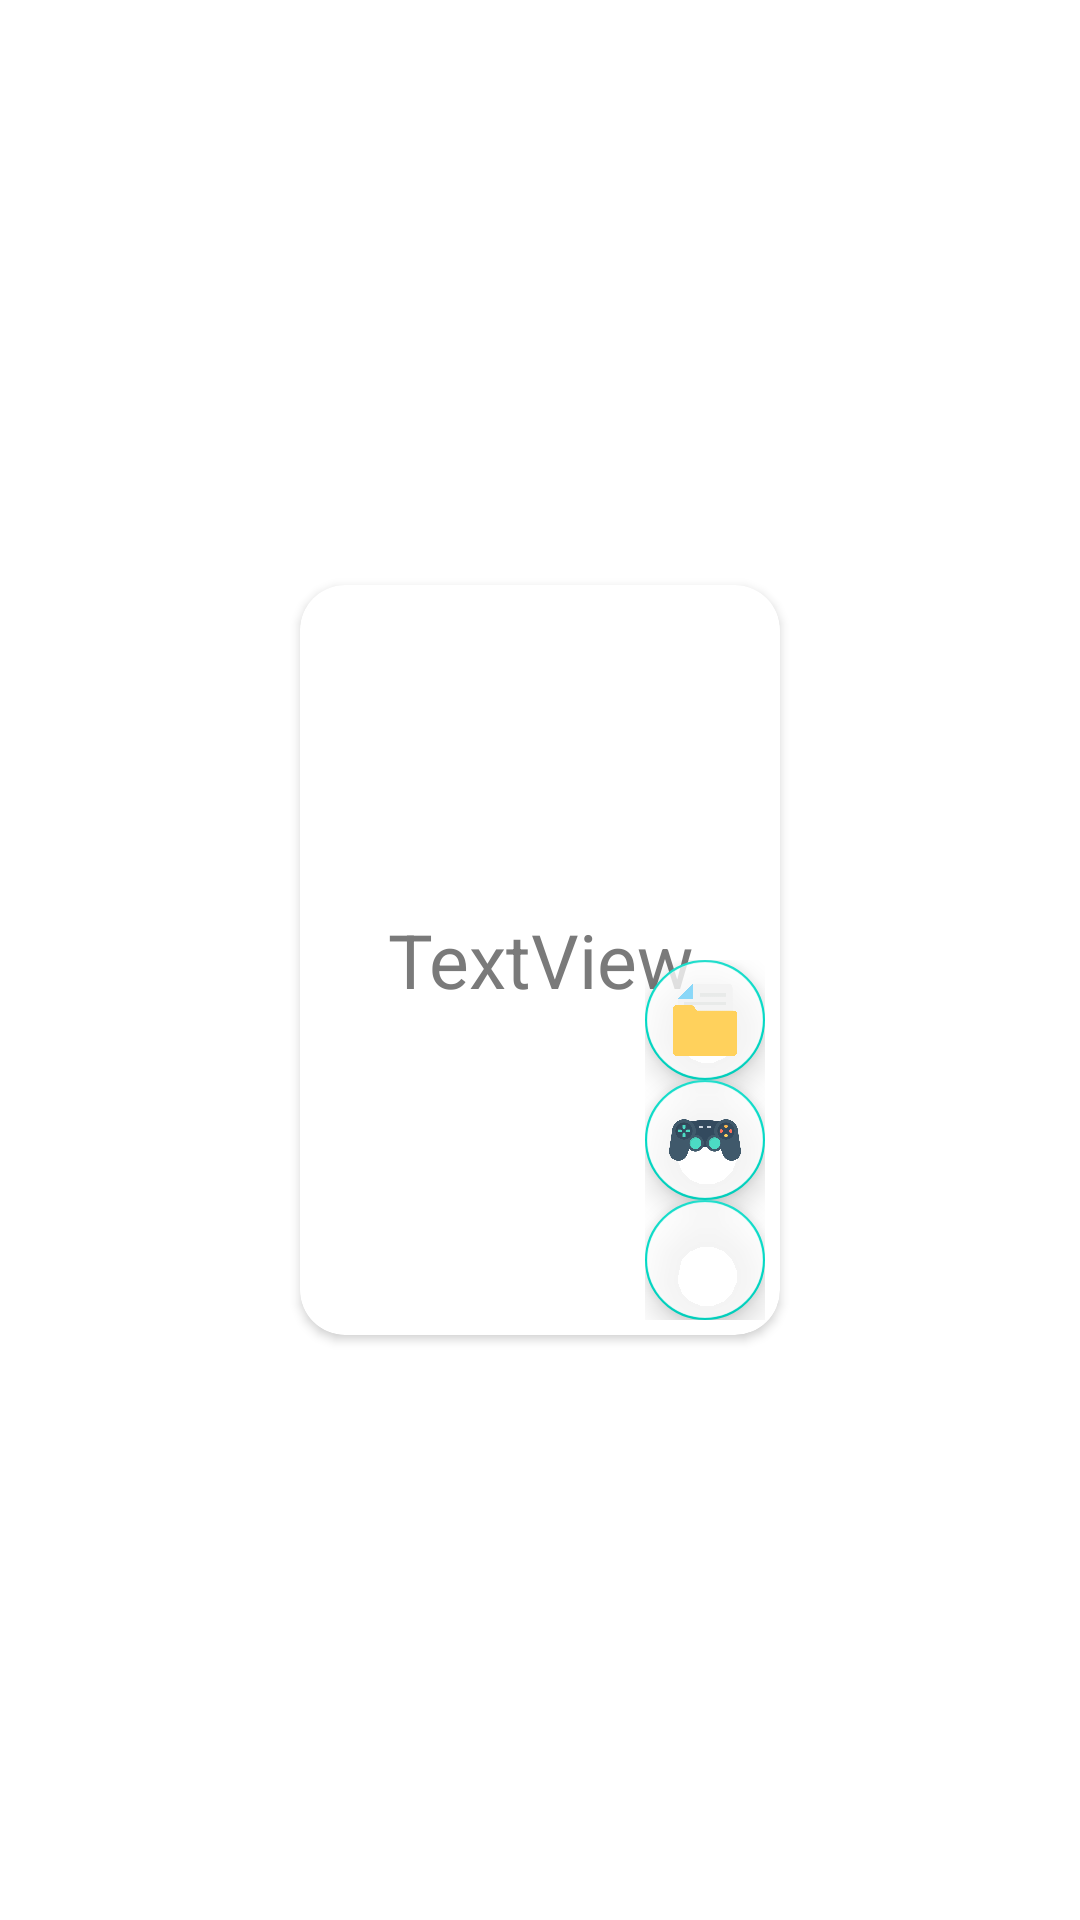

Named icons in this screenshot (1080 × 1920) and their bounding boxes, (x1, y1, x2, y2):
backlog: (673, 984, 737, 1056)
play: (669, 1119, 741, 1161)
